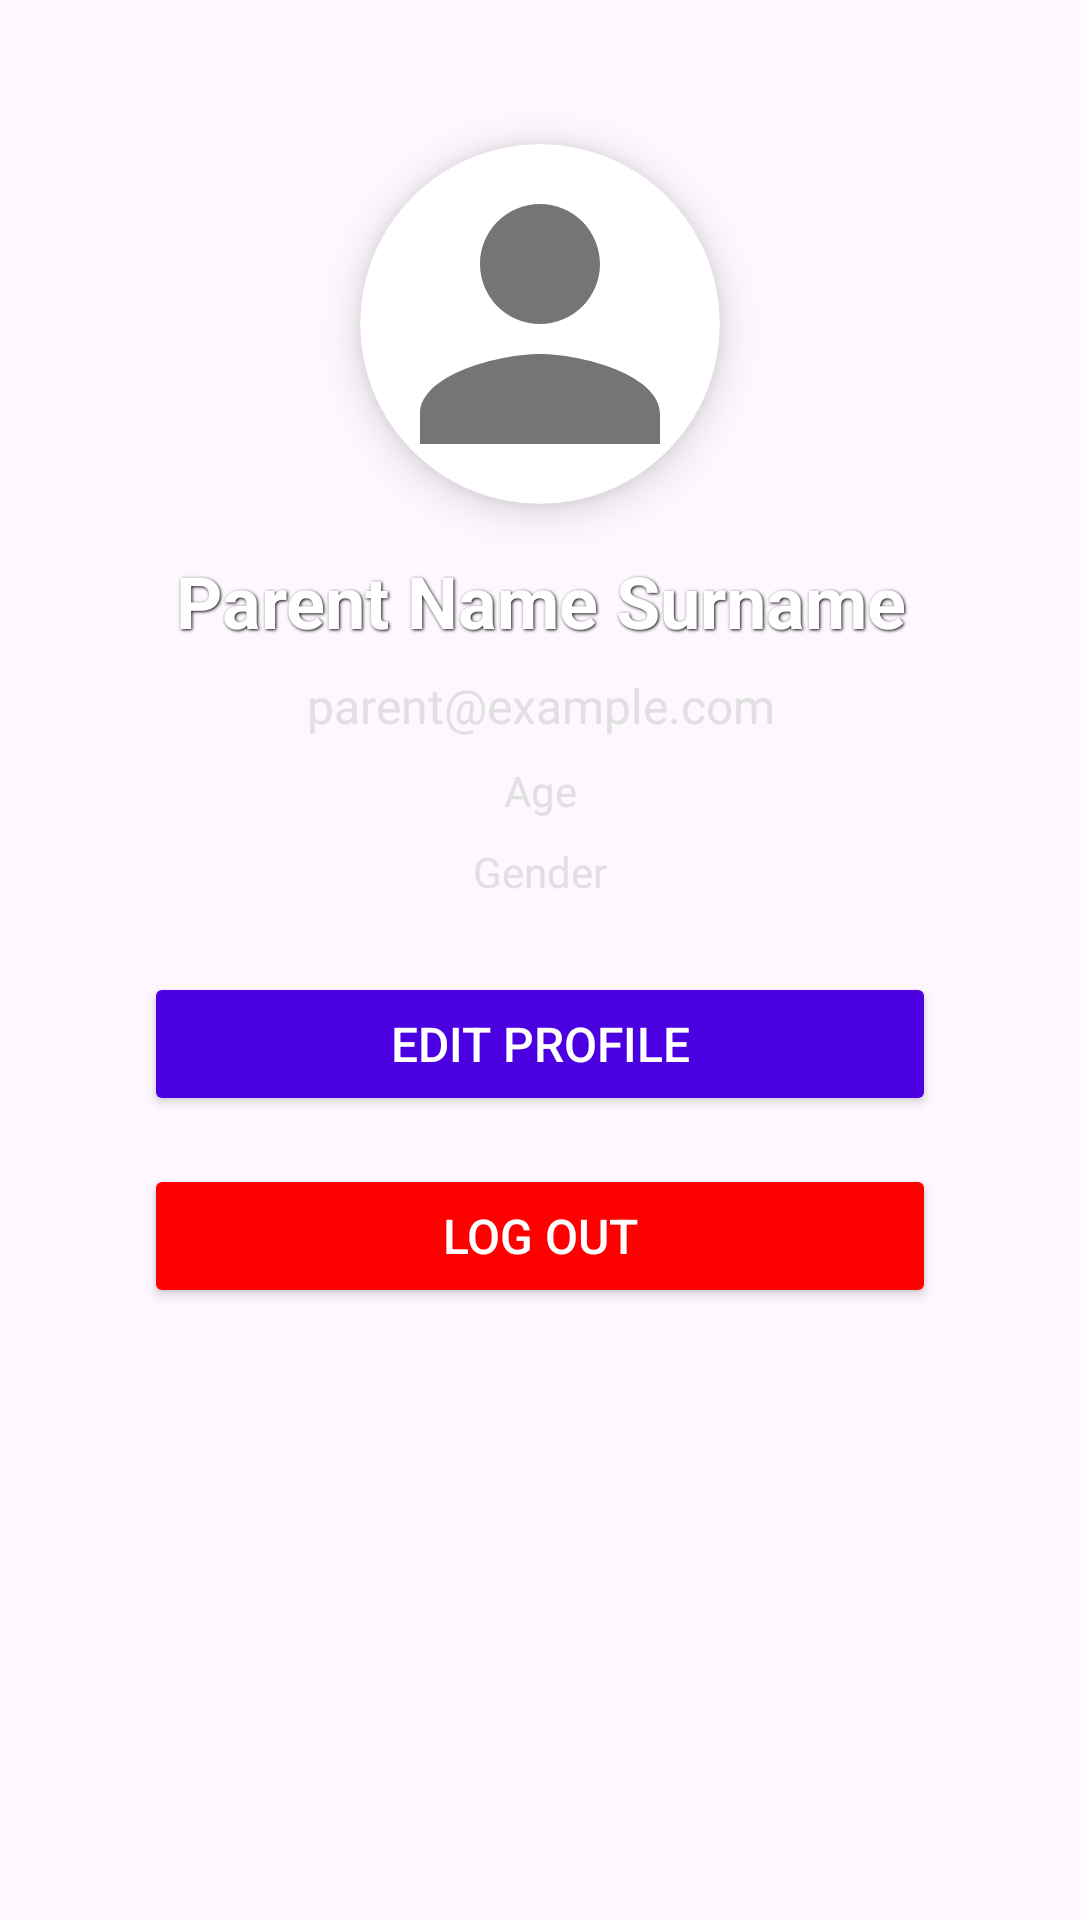

Icon bounding boxes for this 1080 × 1920 phone screenshot, format detection(x1, y1, x2, y2):
Parent profile photo: detection(360, 144, 720, 504)
